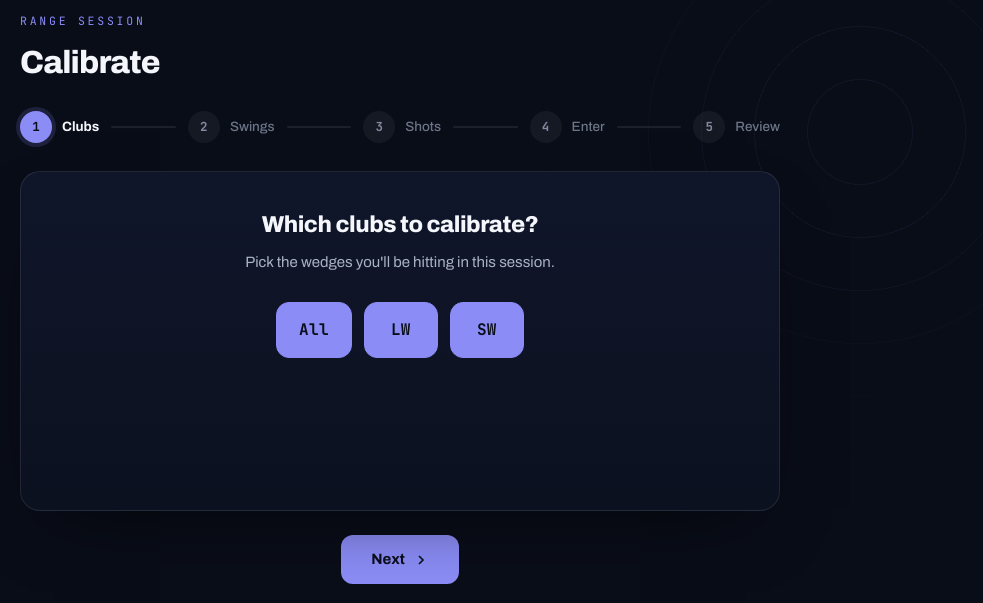
Test: CalibrateView › advances to shot count selector after swing type selection
Click the button with test id "club-next-button". click: [400, 560]
box: [341,535,459,584]
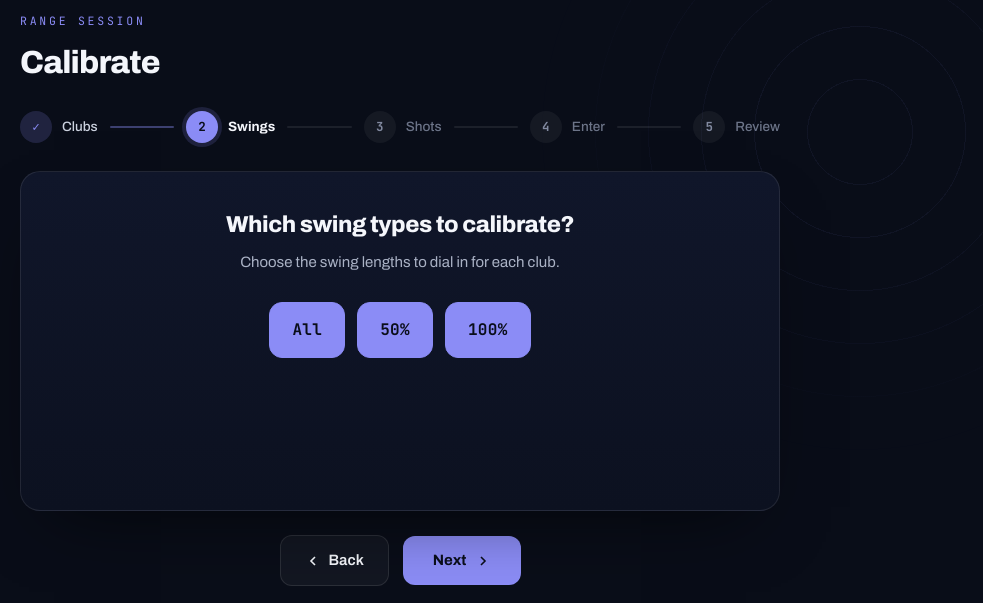
Click the button with test id "swing-next-button". click: [462, 561]
box: [403,536,520,585]
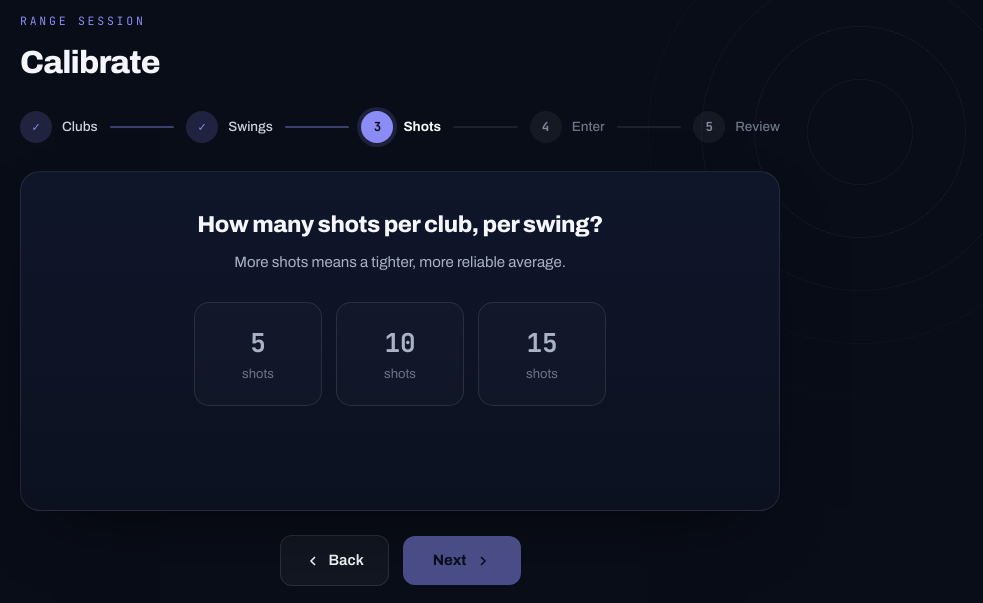
Expected: the button with test id "shot-count-5" is shown, [194,302,322,406]
Expected: the button with test id "shot-count-10" is shown, [336,302,464,406]
Expected: the button with test id "shot-count-15" is shown, [478,302,606,406]
